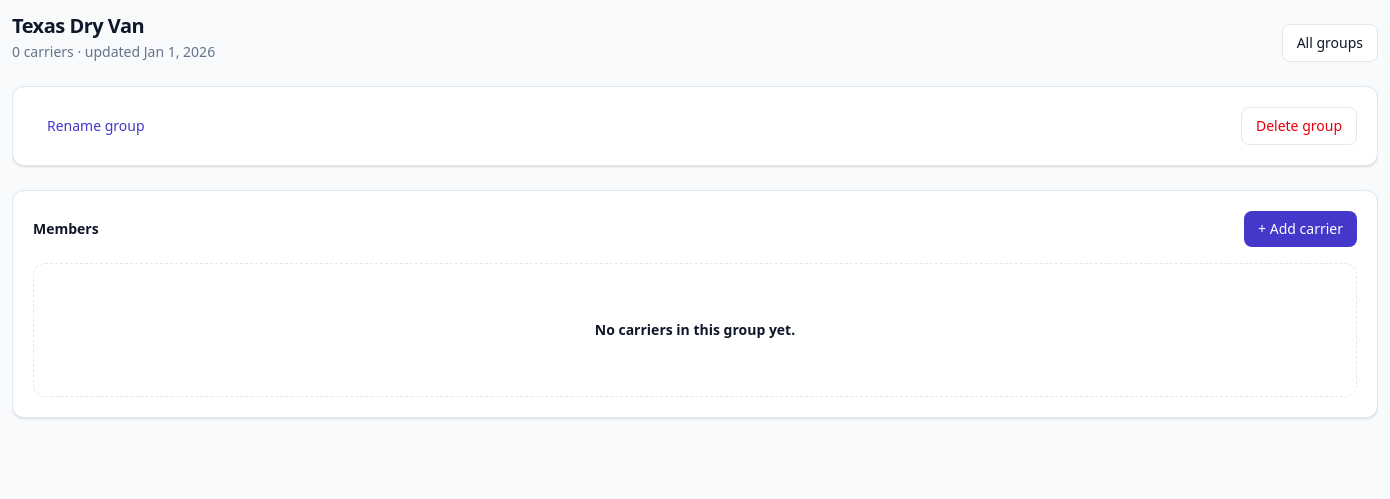
Test: CarrierGroupDetail › adds an eligible carrier to the group
Click the button "+ Add carrier": {"x": 1301, "y": 229} [1244,211,1357,247]
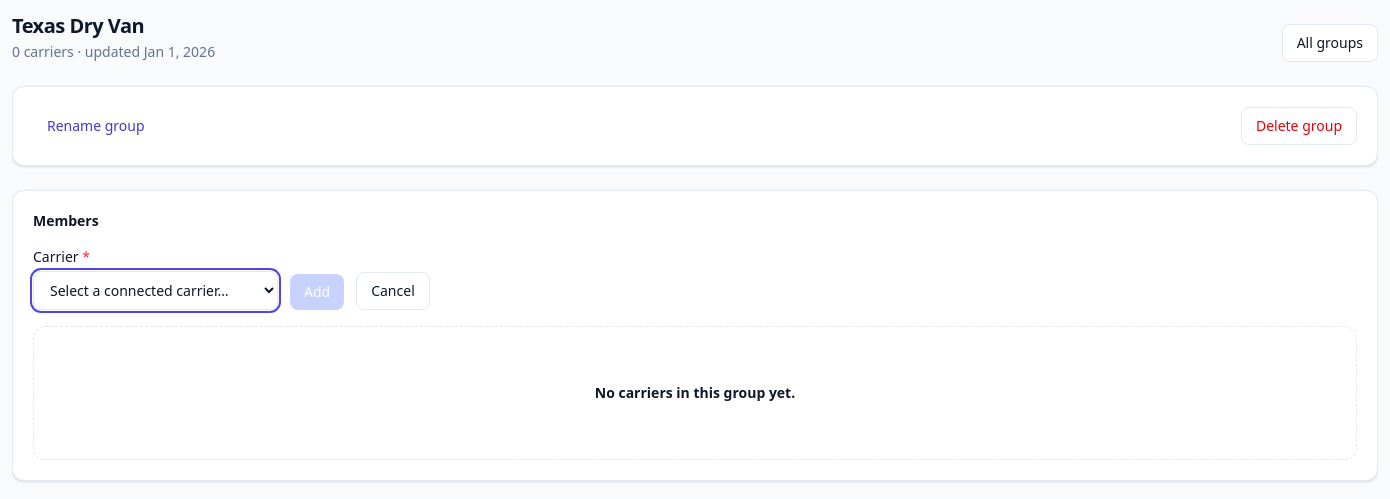
Select "Rio Grande Freight" in the dropdown labelled "Carrier *": {"x": 156, "y": 290} [33,271,278,310]
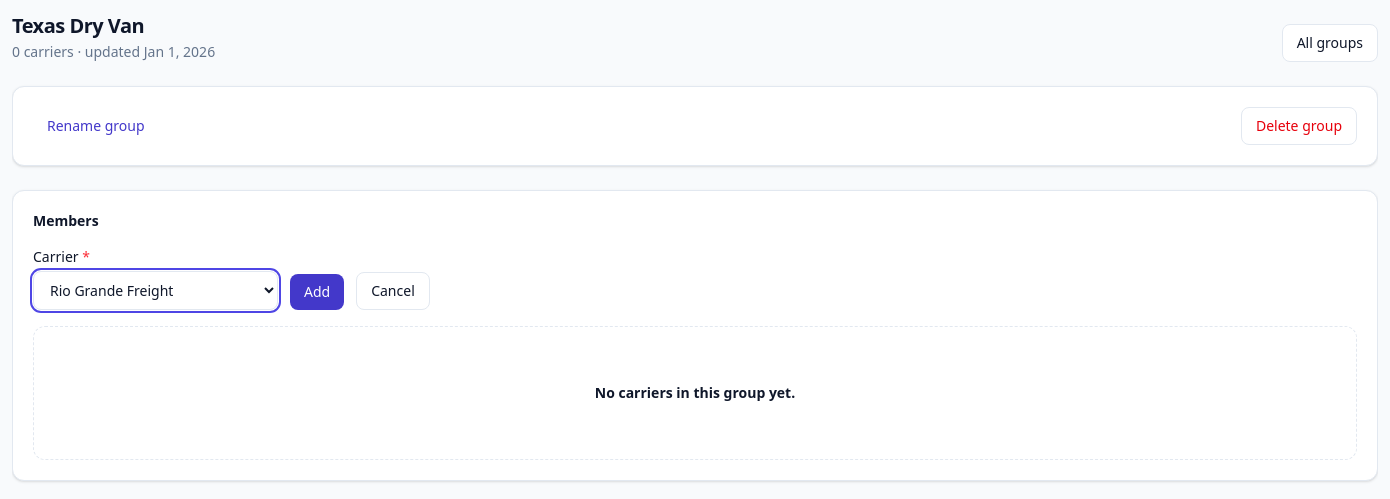
Click the button "Add": {"x": 317, "y": 292} [290,274,344,310]
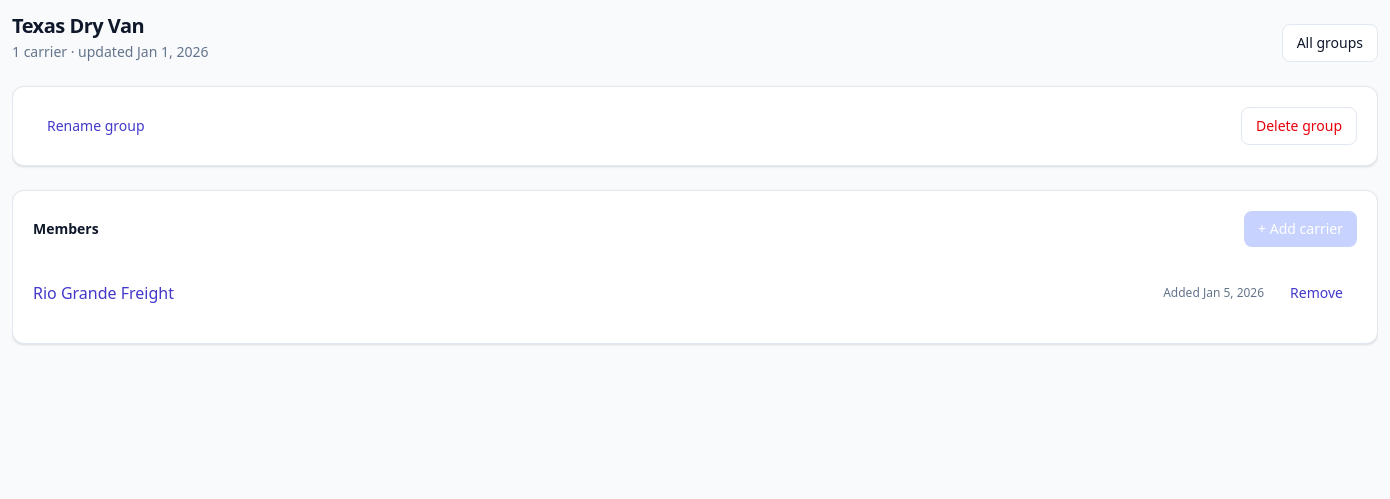
Result: the link "Rio Grande Freight" is shown at [33,281,174,305]
